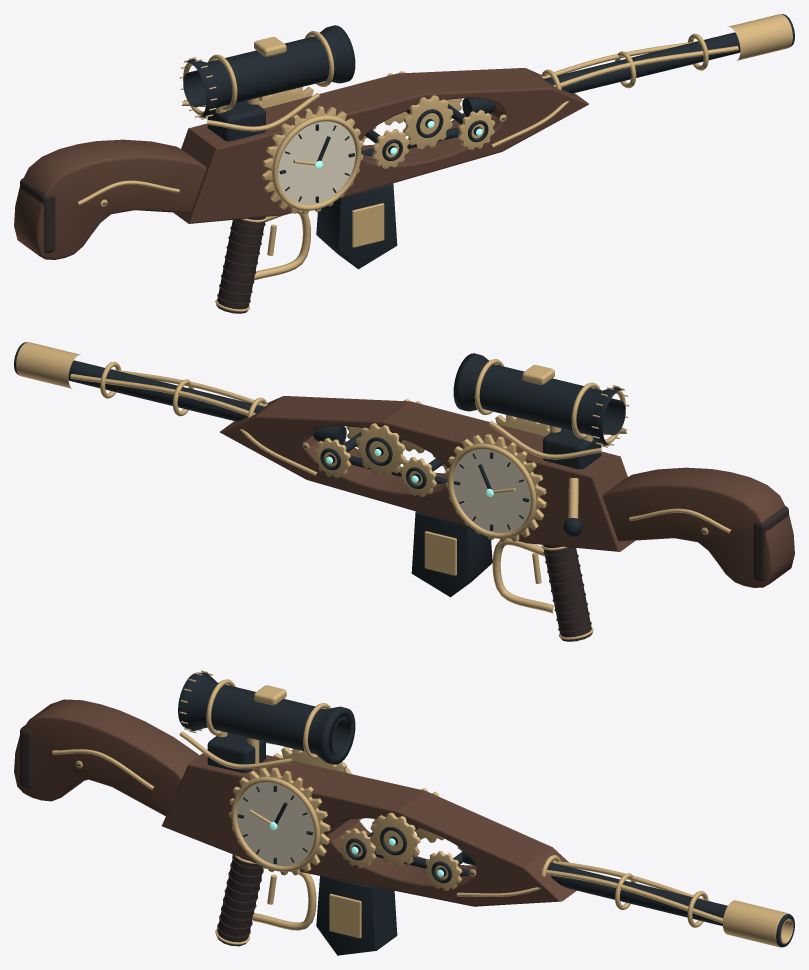
File: meridian-key.glb
The picture shows the model from 3 angles, top to bottom: view 1: azimuth 30°, elevation 25°; view 2: azimuth 150°, elevation 25°; view 3: azimuth 330°, elevation 25°; orthographic projection.
Visible parts, largest first — view 1: 05_Longnight_Sniper__body_Sculpt_coat, 05_Longnight_Sniper__body_Sculpt_metal, 05_Longnight_Sniper__stock_Sculpt_coat, 05_Longnight_Sniper__optic_Sculpt_frame, 05_Longnight_Sniper__body_Sculpt_frame, 05_Longnight_Sniper__body_Sculpt_pearl, 05_Longnight_Sniper__magazine_Sculpt_frame, 05_Longnight_Sniper__body_Sculpt_grip, 05_Longnight_Sniper__optic_Sculpt_metal, 05_Longnight_Sniper__magazine_Sculpt_metal, 05_Longnight_Sniper__stock_Sculpt_grip; view 2: 05_Longnight_Sniper__body_Sculpt_coat, 05_Longnight_Sniper__body_Sculpt_metal, 05_Longnight_Sniper__stock_Sculpt_coat, 05_Longnight_Sniper__optic_Sculpt_frame, 05_Longnight_Sniper__body_Sculpt_frame, 05_Longnight_Sniper__body_Sculpt_pearl, 05_Longnight_Sniper__magazine_Sculpt_frame, 05_Longnight_Sniper__body_Sculpt_grip, 05_Longnight_Sniper__optic_Sculpt_metal, 05_Longnight_Sniper__magazine_Sculpt_metal, 05_Longnight_Sniper__stock_Sculpt_grip; view 3: 05_Longnight_Sniper__body_Sculpt_coat, 05_Longnight_Sniper__body_Sculpt_metal, 05_Longnight_Sniper__stock_Sculpt_coat, 05_Longnight_Sniper__optic_Sculpt_frame, 05_Longnight_Sniper__body_Sculpt_frame, 05_Longnight_Sniper__body_Sculpt_pearl, 05_Longnight_Sniper__magazine_Sculpt_frame, 05_Longnight_Sniper__body_Sculpt_grip, 05_Longnight_Sniper__optic_Sculpt_metal, 05_Longnight_Sniper__magazine_Sculpt_metal, 05_Longnight_Sniper__stock_Sculpt_grip, 05_Longnight_Sniper__stock_Sculpt_metal.
Part boxes in pixels (x1=…): 05_Longnight_Sniper__body_Sculpt_coat: x1=173, y1=68, x2=588, y2=223; 05_Longnight_Sniper__body_Sculpt_metal: x1=100, y1=14, x2=792, y2=311; 05_Longnight_Sniper__stock_Sculpt_coat: x1=14, y1=139, x2=206, y2=259; 05_Longnight_Sniper__optic_Sculpt_frame: x1=183, y1=25, x2=355, y2=141; 05_Longnight_Sniper__body_Sculpt_frame: x1=103, y1=14, x2=794, y2=204; 05_Longnight_Sniper__body_Sculpt_pearl: x1=278, y1=121, x2=355, y2=204; 05_Longnight_Sniper__magazine_Sculpt_frame: x1=316, y1=183, x2=397, y2=269; 05_Longnight_Sniper__body_Sculpt_grip: x1=216, y1=217, x2=265, y2=313; 05_Longnight_Sniper__optic_Sculpt_metal: x1=179, y1=31, x2=334, y2=131; 05_Longnight_Sniper__magazine_Sculpt_metal: x1=352, y1=203, x2=384, y2=247; 05_Longnight_Sniper__stock_Sculpt_grip: x1=20, y1=178, x2=55, y2=253; 05_Longnight_Sniper__body_Sculpt_coat: x1=220, y1=396, x2=635, y2=551; 05_Longnight_Sniper__body_Sculpt_metal: x1=16, y1=342, x2=708, y2=639; 05_Longnight_Sniper__stock_Sculpt_coat: x1=602, y1=467, x2=794, y2=587; 05_Longnight_Sniper__optic_Sculpt_frame: x1=453, y1=353, x2=625, y2=469; 05_Longnight_Sniper__body_Sculpt_frame: x1=14, y1=342, x2=705, y2=532; 05_Longnight_Sniper__body_Sculpt_pearl: x1=453, y1=449, x2=530, y2=532; 05_Longnight_Sniper__magazine_Sculpt_frame: x1=411, y1=511, x2=492, y2=597; 05_Longnight_Sniper__body_Sculpt_grip: x1=543, y1=545, x2=592, y2=641; 05_Longnight_Sniper__optic_Sculpt_metal: x1=474, y1=359, x2=629, y2=459; 05_Longnight_Sniper__magazine_Sculpt_metal: x1=424, y1=531, x2=456, y2=575; 05_Longnight_Sniper__stock_Sculpt_grip: x1=753, y1=506, x2=788, y2=581; 05_Longnight_Sniper__body_Sculpt_coat: x1=162, y1=753, x2=576, y2=906; 05_Longnight_Sniper__body_Sculpt_metal: x1=75, y1=747, x2=793, y2=947; 05_Longnight_Sniper__stock_Sculpt_coat: x1=14, y1=699, x2=199, y2=816; 05_Longnight_Sniper__optic_Sculpt_frame: x1=178, y1=672, x2=355, y2=772; 05_Longnight_Sniper__body_Sculpt_frame: x1=77, y1=764, x2=794, y2=947; 05_Longnight_Sniper__body_Sculpt_pearl: x1=237, y1=782, x2=314, y2=866; 05_Longnight_Sniper__magazine_Sculpt_frame: x1=316, y1=876, x2=397, y2=955; 05_Longnight_Sniper__body_Sculpt_grip: x1=217, y1=854, x2=263, y2=946; 05_Longnight_Sniper__optic_Sculpt_metal: x1=179, y1=670, x2=331, y2=769; 05_Longnight_Sniper__magazine_Sculpt_metal: x1=329, y1=893, x2=361, y2=938; 05_Longnight_Sniper__stock_Sculpt_grip: x1=20, y1=725, x2=31, y2=788; 05_Longnight_Sniper__stock_Sculpt_metal: x1=52, y1=749, x2=154, y2=790.
Size of the model in its own units: 4.1 by 1.33 by 0.5136.
